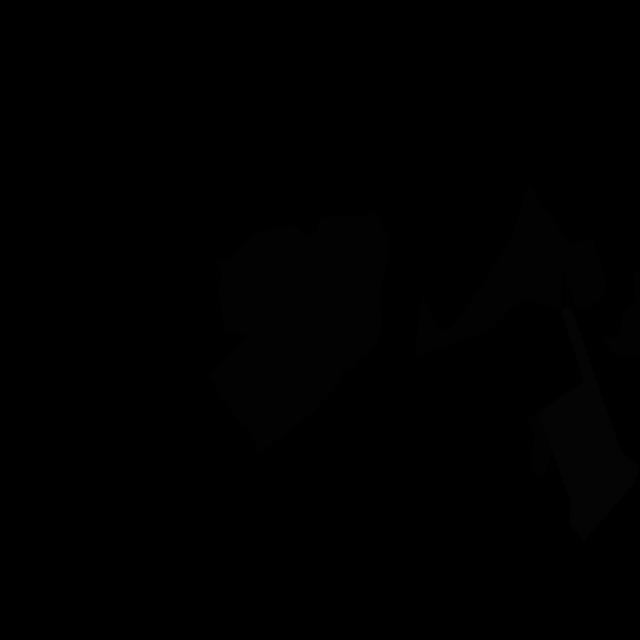cardboard: (208, 211, 389, 453), (414, 234, 562, 356), (512, 184, 607, 311), (601, 270, 640, 358), (526, 412, 552, 477)
soft_plastic: (538, 306, 640, 541)
